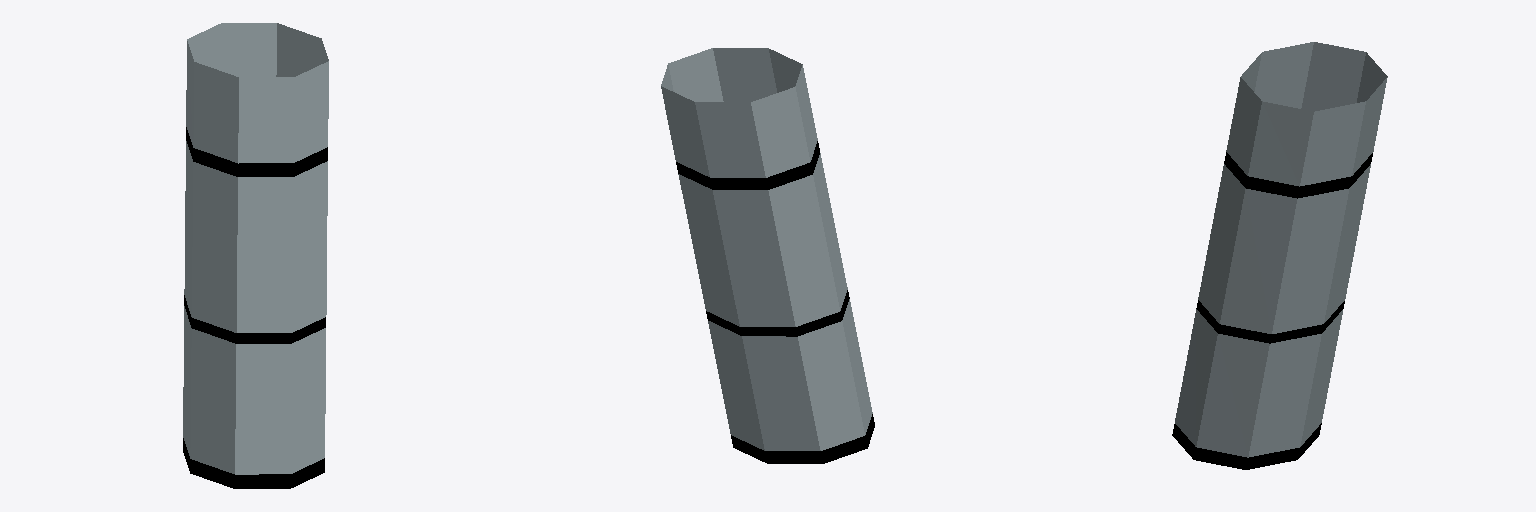
3 views of the same model, side by side, from view 1: azimuth 30°, elevation 25°; view 2: azimuth 150°, elevation 25°; view 3: azimuth 270°, elevation 25° (orthographic).
Visible parts, largest first — view 1: Pierna2_2; view 2: Pierna2_2; view 3: Pierna2_2.
Boxes of the visible parts, x1=… form: Pierna2_2: x1=183, y1=23, x2=328, y2=488; Pierna2_2: x1=661, y1=48, x2=874, y2=463; Pierna2_2: x1=1172, y1=42, x2=1387, y2=469.
Bounding box in the file's own units: 0.2499 × 0.5556 × 0.2817.
2 materials, 1 textured.